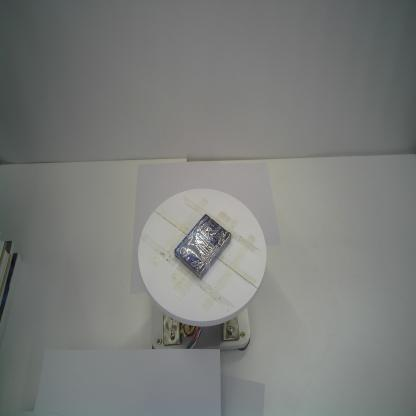Gum: (173, 213, 233, 281)
